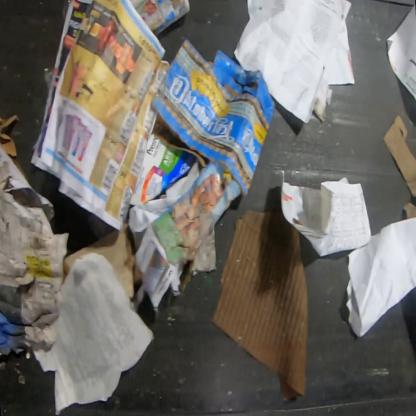cardboard: (150, 39, 276, 197), (212, 211, 307, 400), (63, 225, 142, 301), (129, 133, 198, 205), (382, 116, 416, 200)
soft_plastic: (44, 66, 53, 94)
